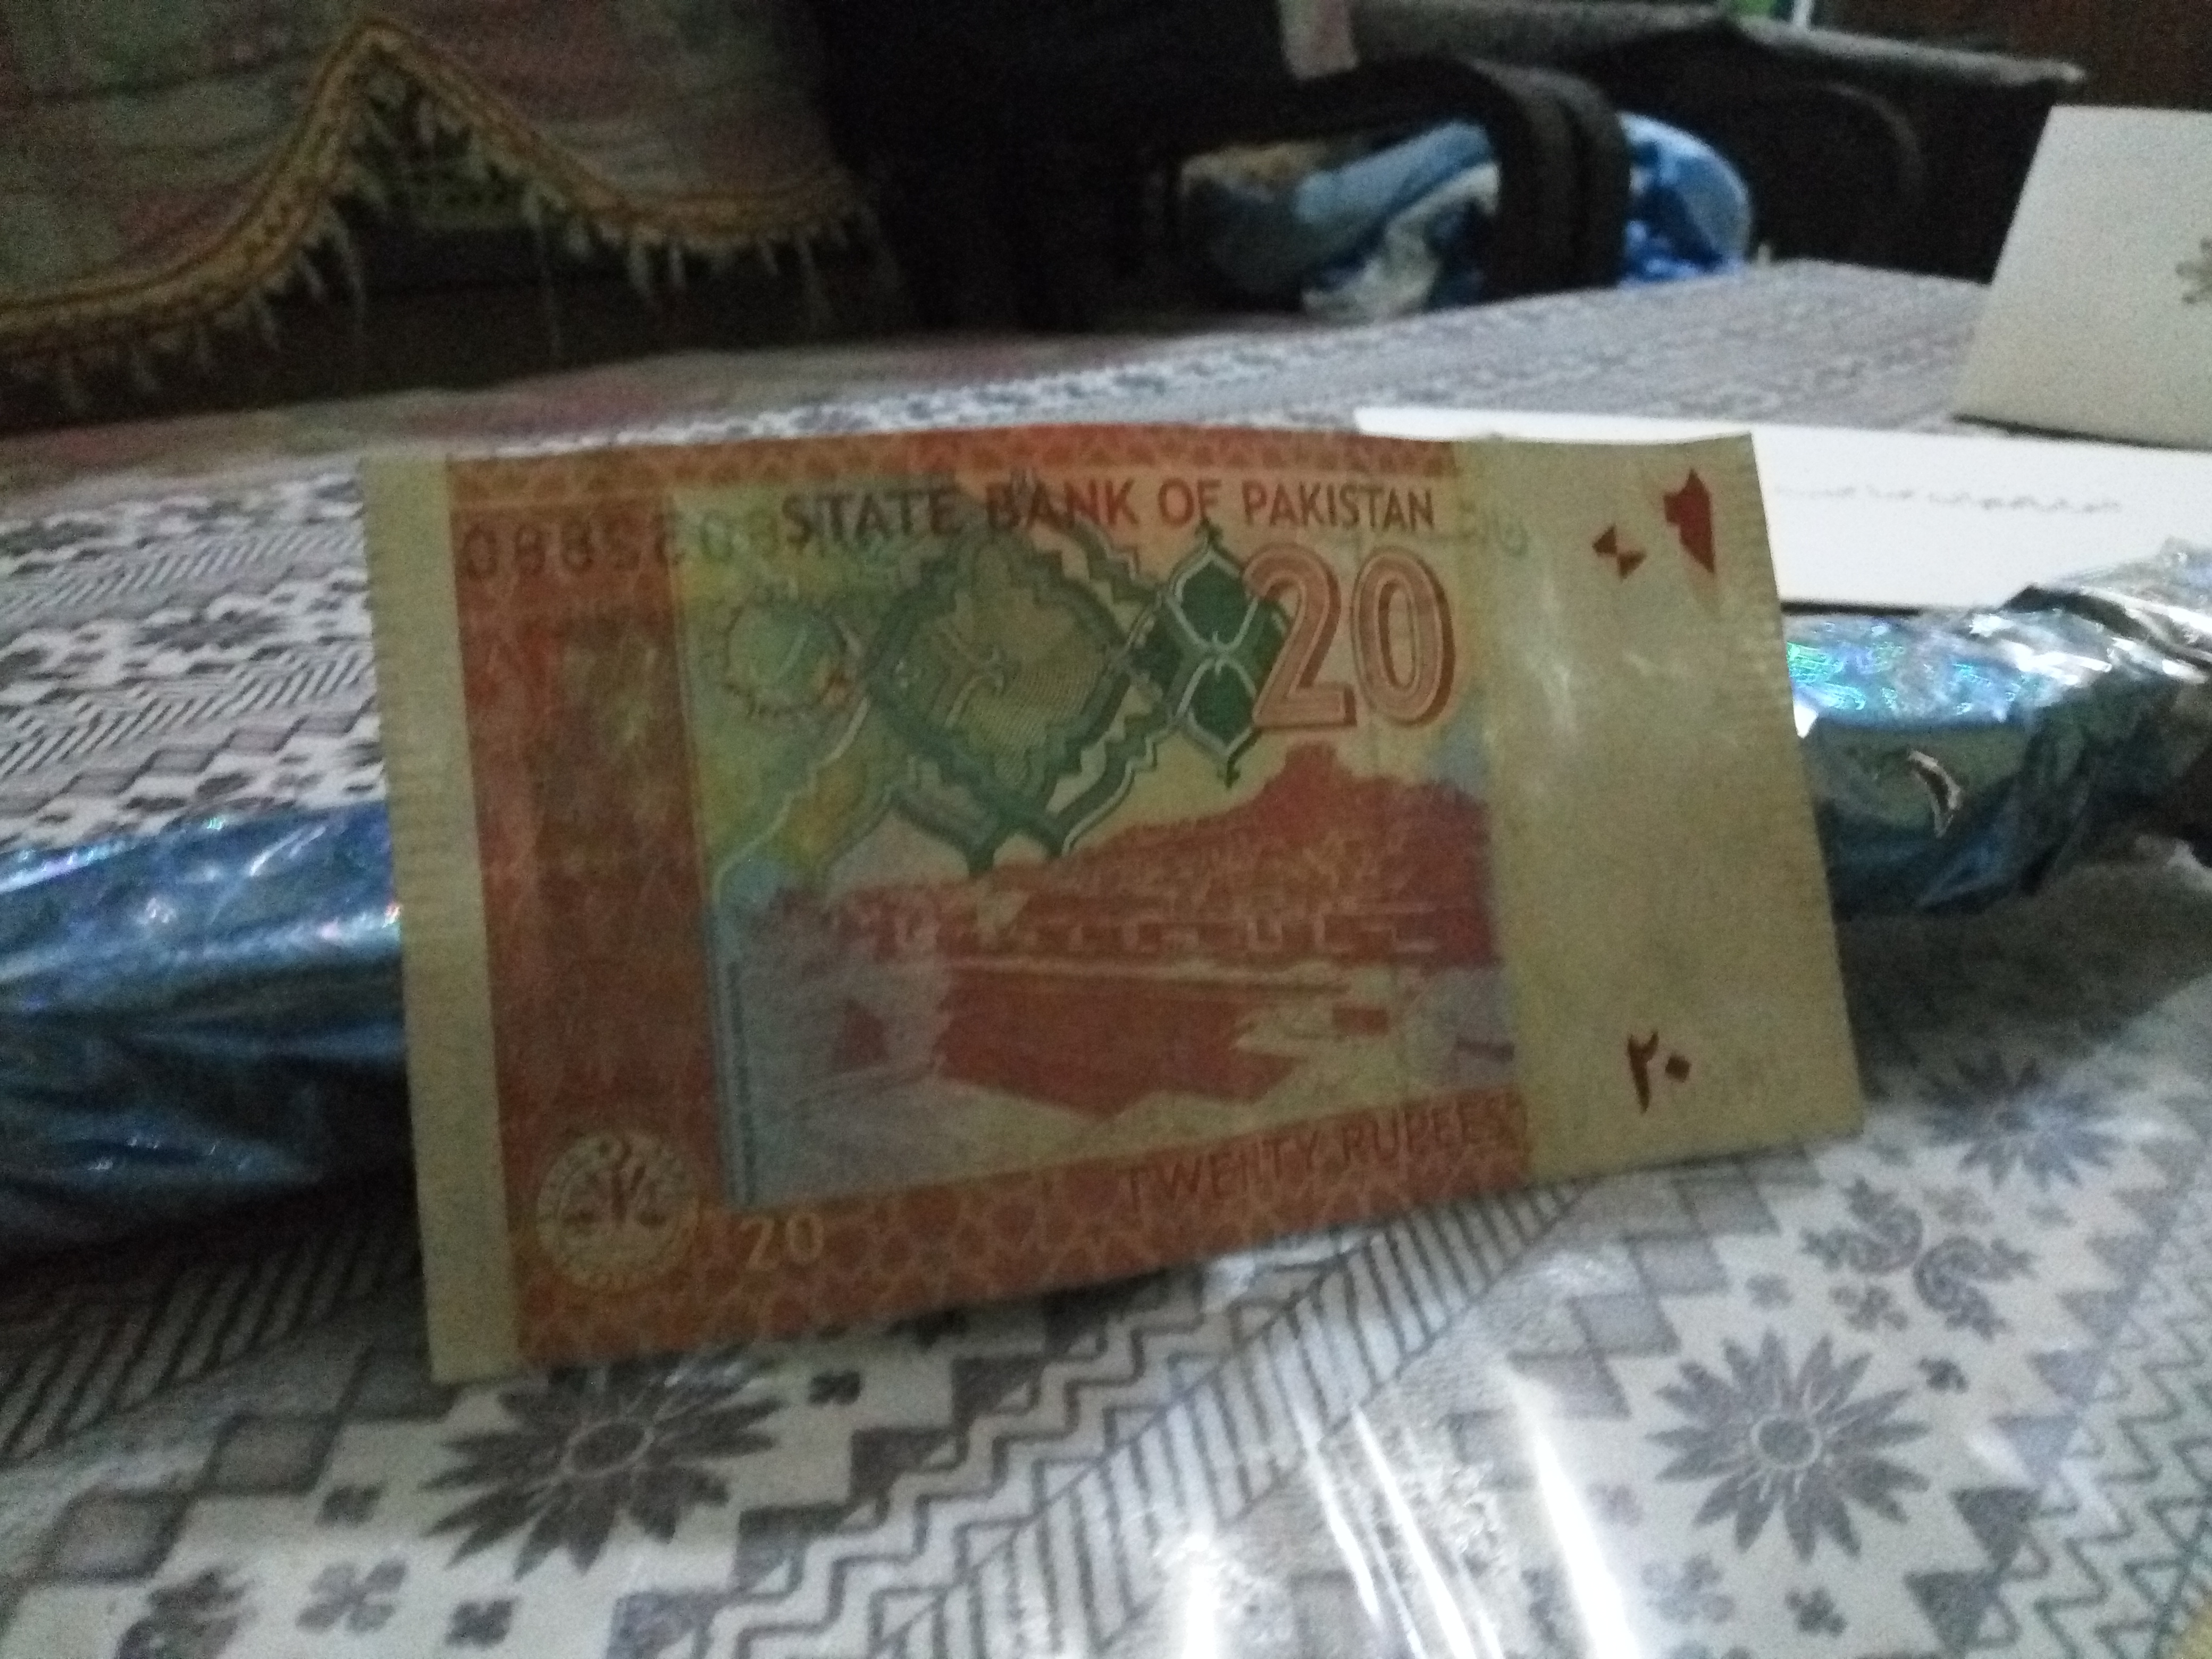20 rupee: (319, 338, 1879, 1419)
